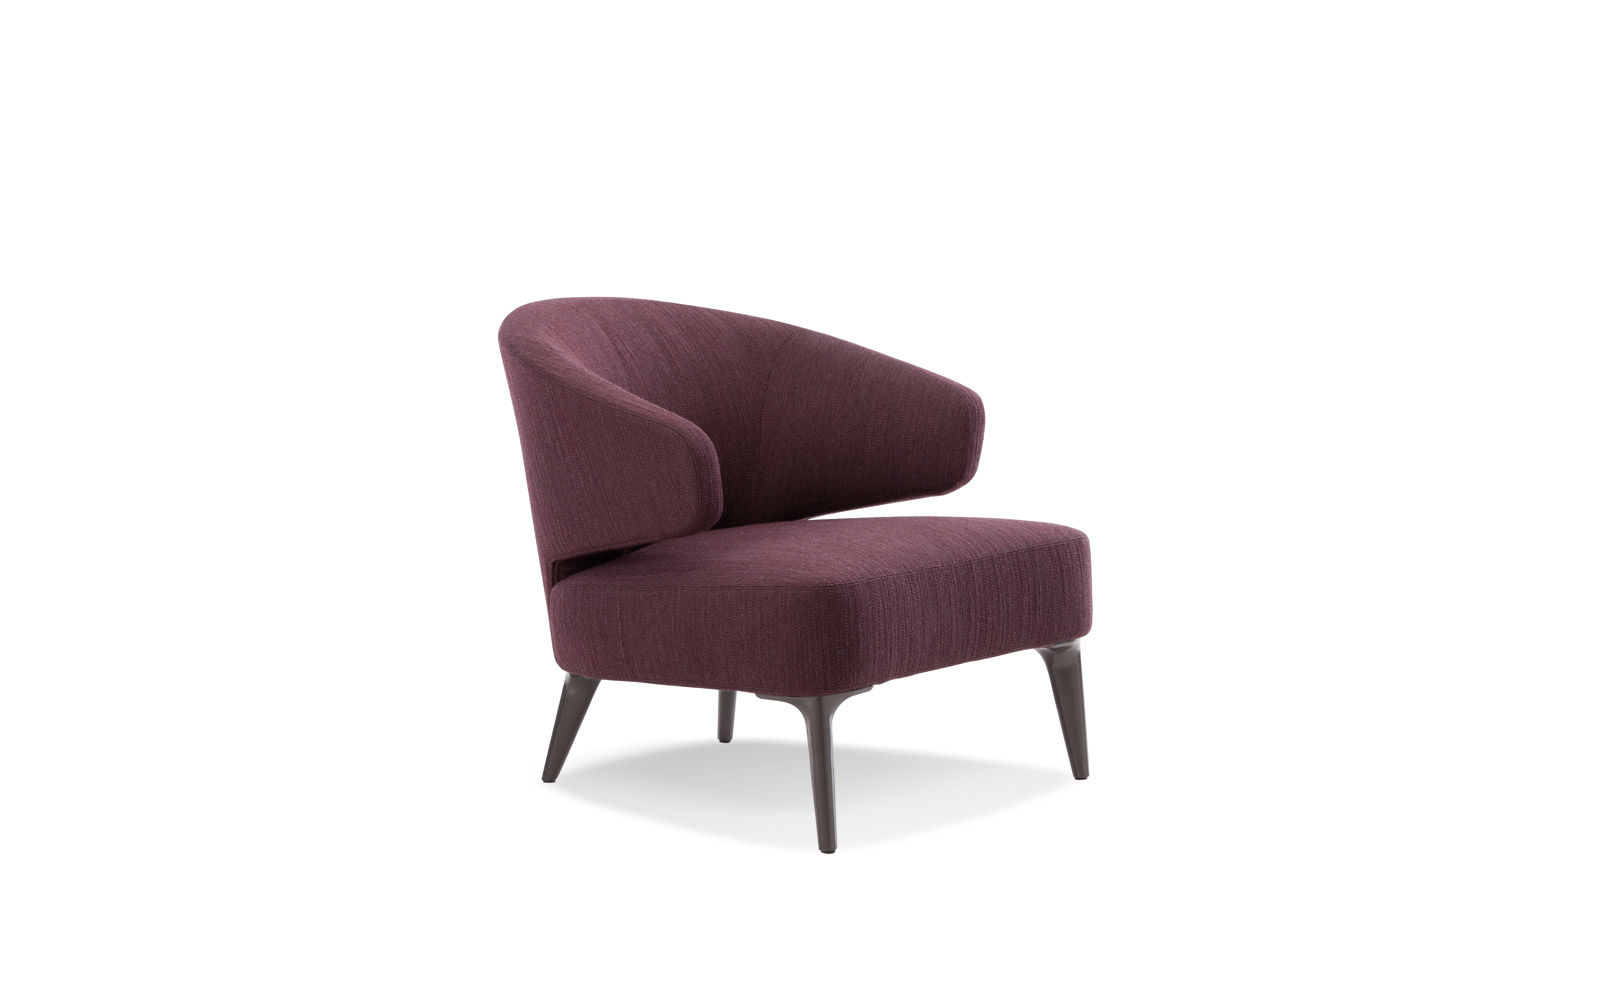chairs: (494, 289, 1099, 859)
